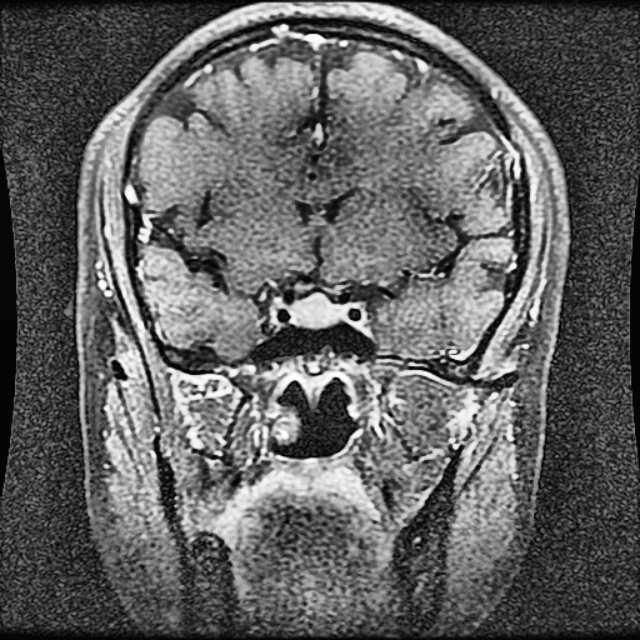Pituitary: (290, 294, 342, 323)
